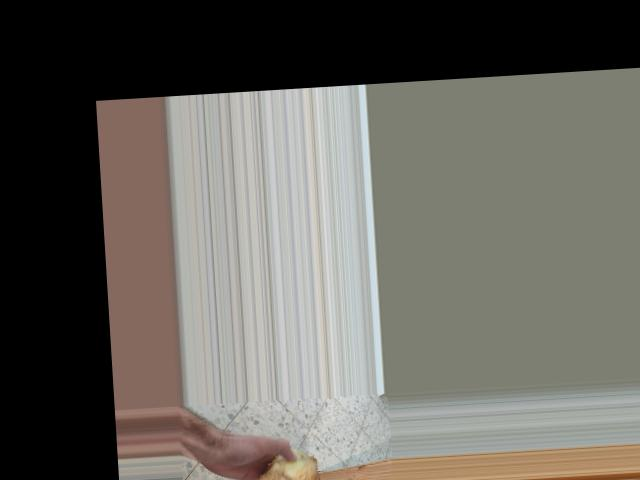onion: (251, 445, 322, 480)
